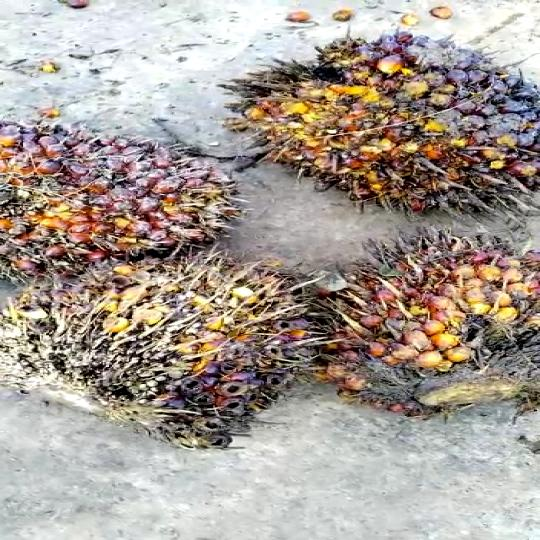masak: (0, 253, 310, 453), (228, 33, 540, 225), (293, 230, 540, 410), (0, 119, 245, 288)
